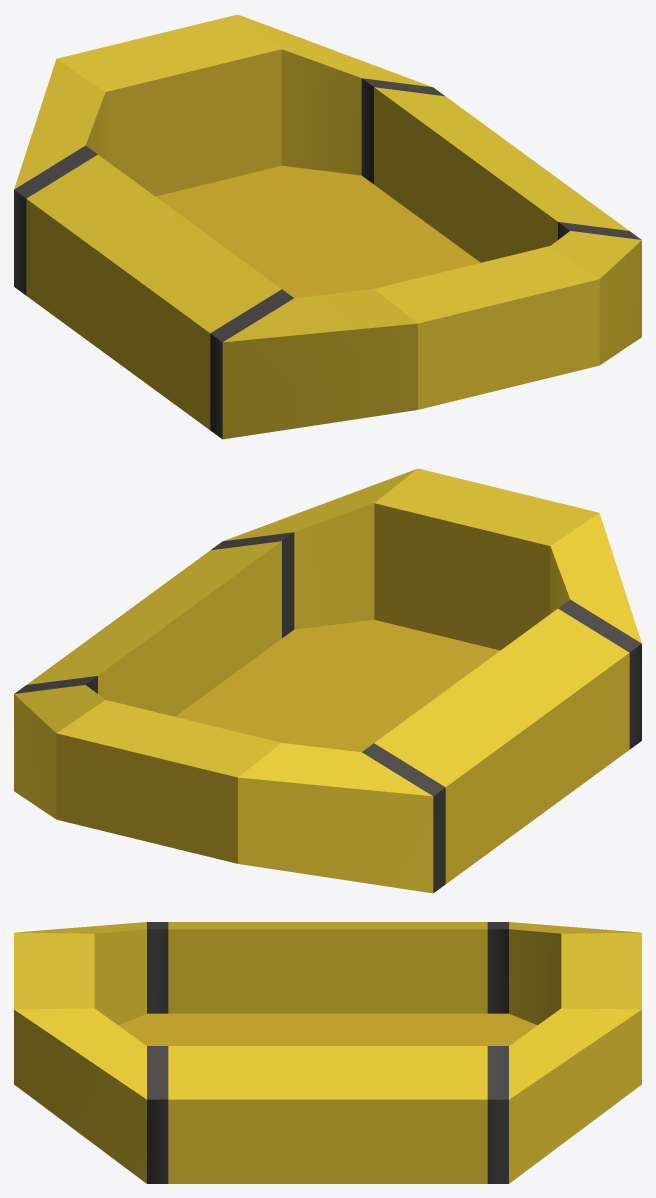
The model's file is SM_Veh_LifeRaft_01.fbx.
3 renders of one model, top to bottom at view 1: azimuth 30°, elevation 25°; view 2: azimuth 150°, elevation 25°; view 3: azimuth 270°, elevation 25°, orthographic. The views are drawn at different scales.
Visible parts, largest first — view 1: SM_Veh_LifeRaft_01; view 2: SM_Veh_LifeRaft_01; view 3: SM_Veh_LifeRaft_01.
Part boxes in pixels (<box>): SM_Veh_LifeRaft_01: <box>14,14,641,439</box>; SM_Veh_LifeRaft_01: <box>14,468,641,893</box>; SM_Veh_LifeRaft_01: <box>14,922,641,1183</box>.
Size of the model in its own units: 4.1 by 1.33 by 6.12.
